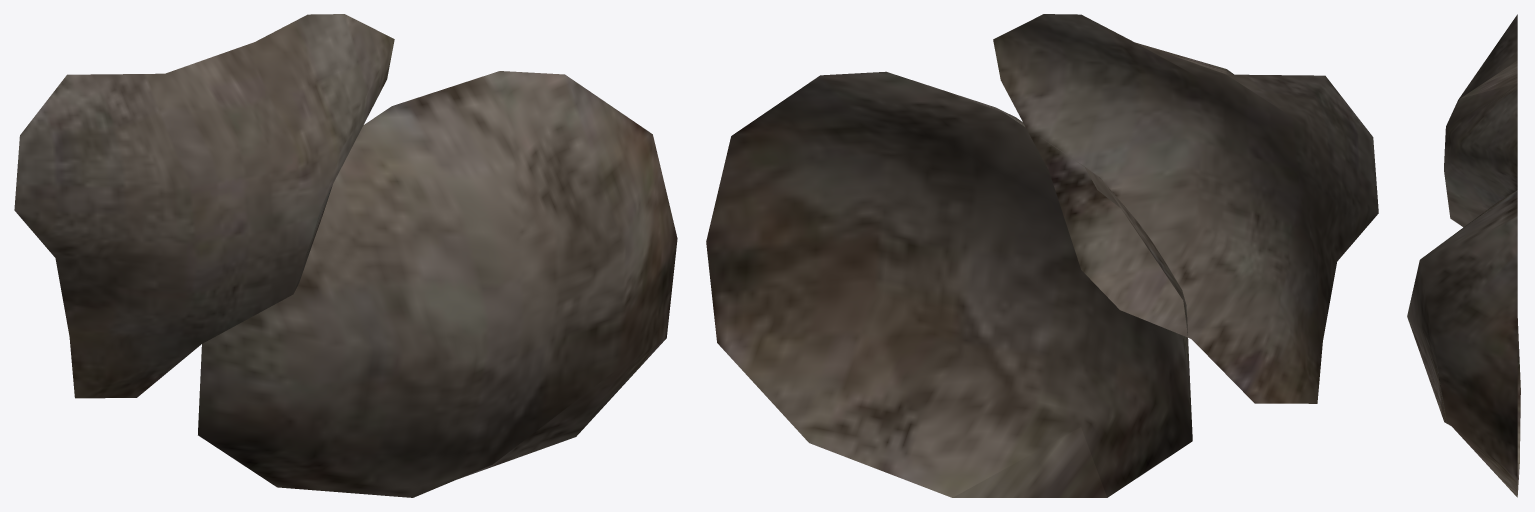
Rendered from prop_toujane_roadrock9.glb.
3 views of the same model, side by side, from view 1: azimuth 30°, elevation 25°; view 2: azimuth 150°, elevation 25°; view 3: azimuth 270°, elevation 25° (orthographic). The views are drawn at different scales.
Size of the model in its own units: 26.58 by 19.38 by 6.
Materials: 1 (1 with a texture image).
